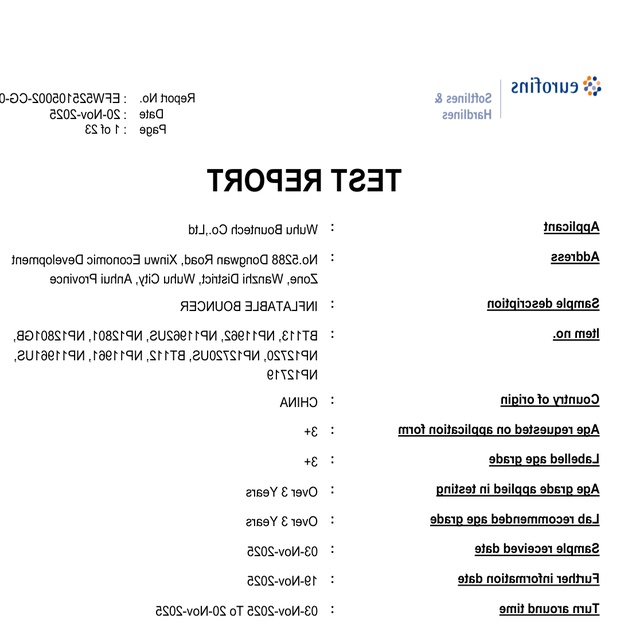eurofins: (506, 72, 614, 104)
